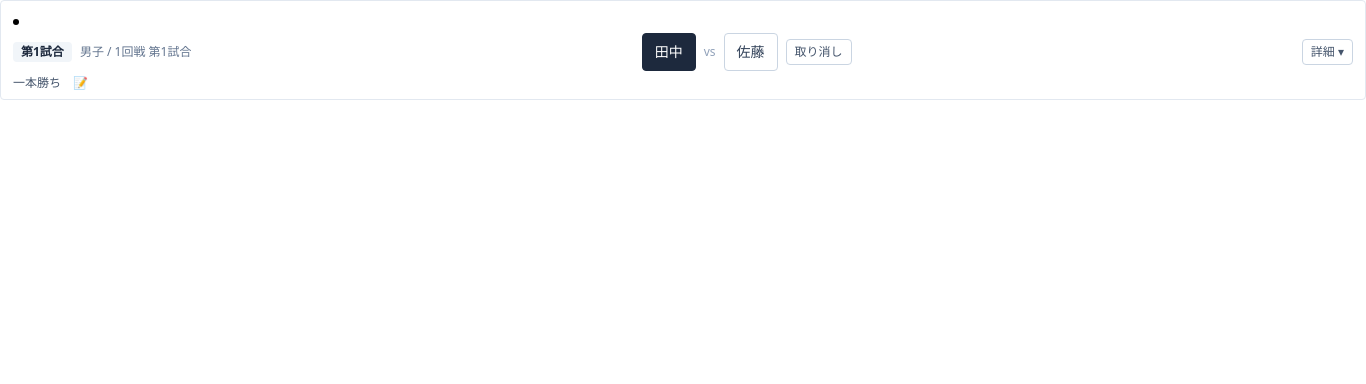
Test: MatchResultRow の詳細 › 詳細を開いたあとに記録が取り消されると詳細フォームごと閉じる
This screenshot has width=1366, height=384.
Click the button "詳細 ▾". click: {"x": 1327, "y": 52}
box: 1302,39 -> 1353,65
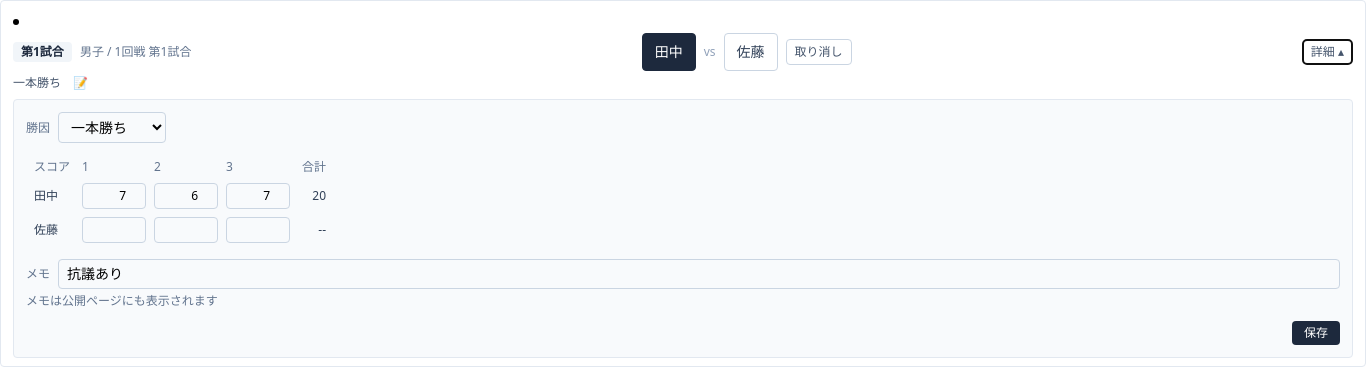
Now the dropdown labelled "勝因" is shown, box 58,112 -> 166,143
